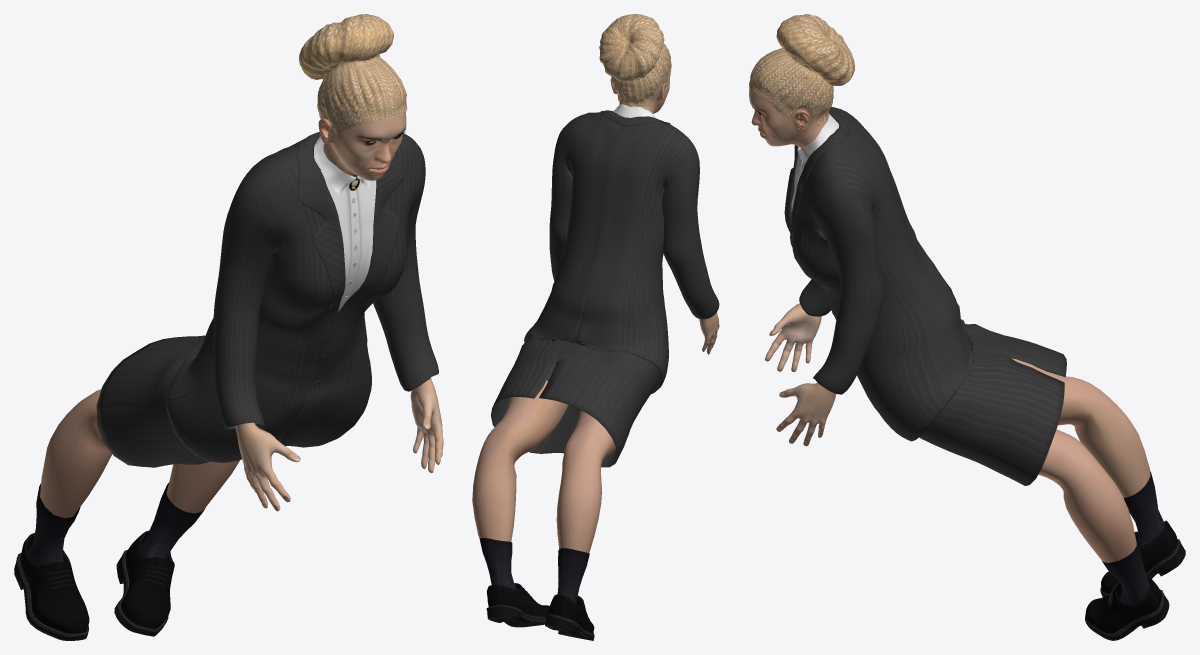
File: donna-04.glb
3 views of the same model, side by side, from view 1: azimuth 30°, elevation 25°; view 2: azimuth 150°, elevation 25°; view 3: azimuth 270°, elevation 25° (orthographic). The views are drawn at different scales.
Parts seen in each view (by area): view 1: Human.toigo_female_suit, Human, Human.shoes03, Human.elvs_braid_bun; view 2: Human.toigo_female_suit, Human, Human.shoes03, Human.elvs_braid_bun; view 3: Human.toigo_female_suit, Human, Human.shoes03, Human.elvs_braid_bun.
Boxes of the visible parts, x1,y1,x2,y2 form: Human.toigo_female_suit: (96, 132, 438, 467); Human: (40, 105, 443, 518); Human.shoes03: (14, 482, 205, 640); Human.elvs_braid_bun: (299, 14, 407, 138); Human.toigo_female_suit: (491, 104, 719, 467); Human: (472, 75, 719, 553); Human.shoes03: (479, 538, 594, 640); Human.elvs_braid_bun: (599, 14, 671, 107); Human.toigo_female_suit: (784, 107, 1066, 485); Human: (749, 87, 1150, 562); Human.shoes03: (1085, 471, 1185, 640); Human.elvs_braid_bun: (749, 14, 854, 125).
Bounding box in the file's own units: 0.5161 × 1.59 × 1.01.
Materials: 12 (12 with a texture image).
